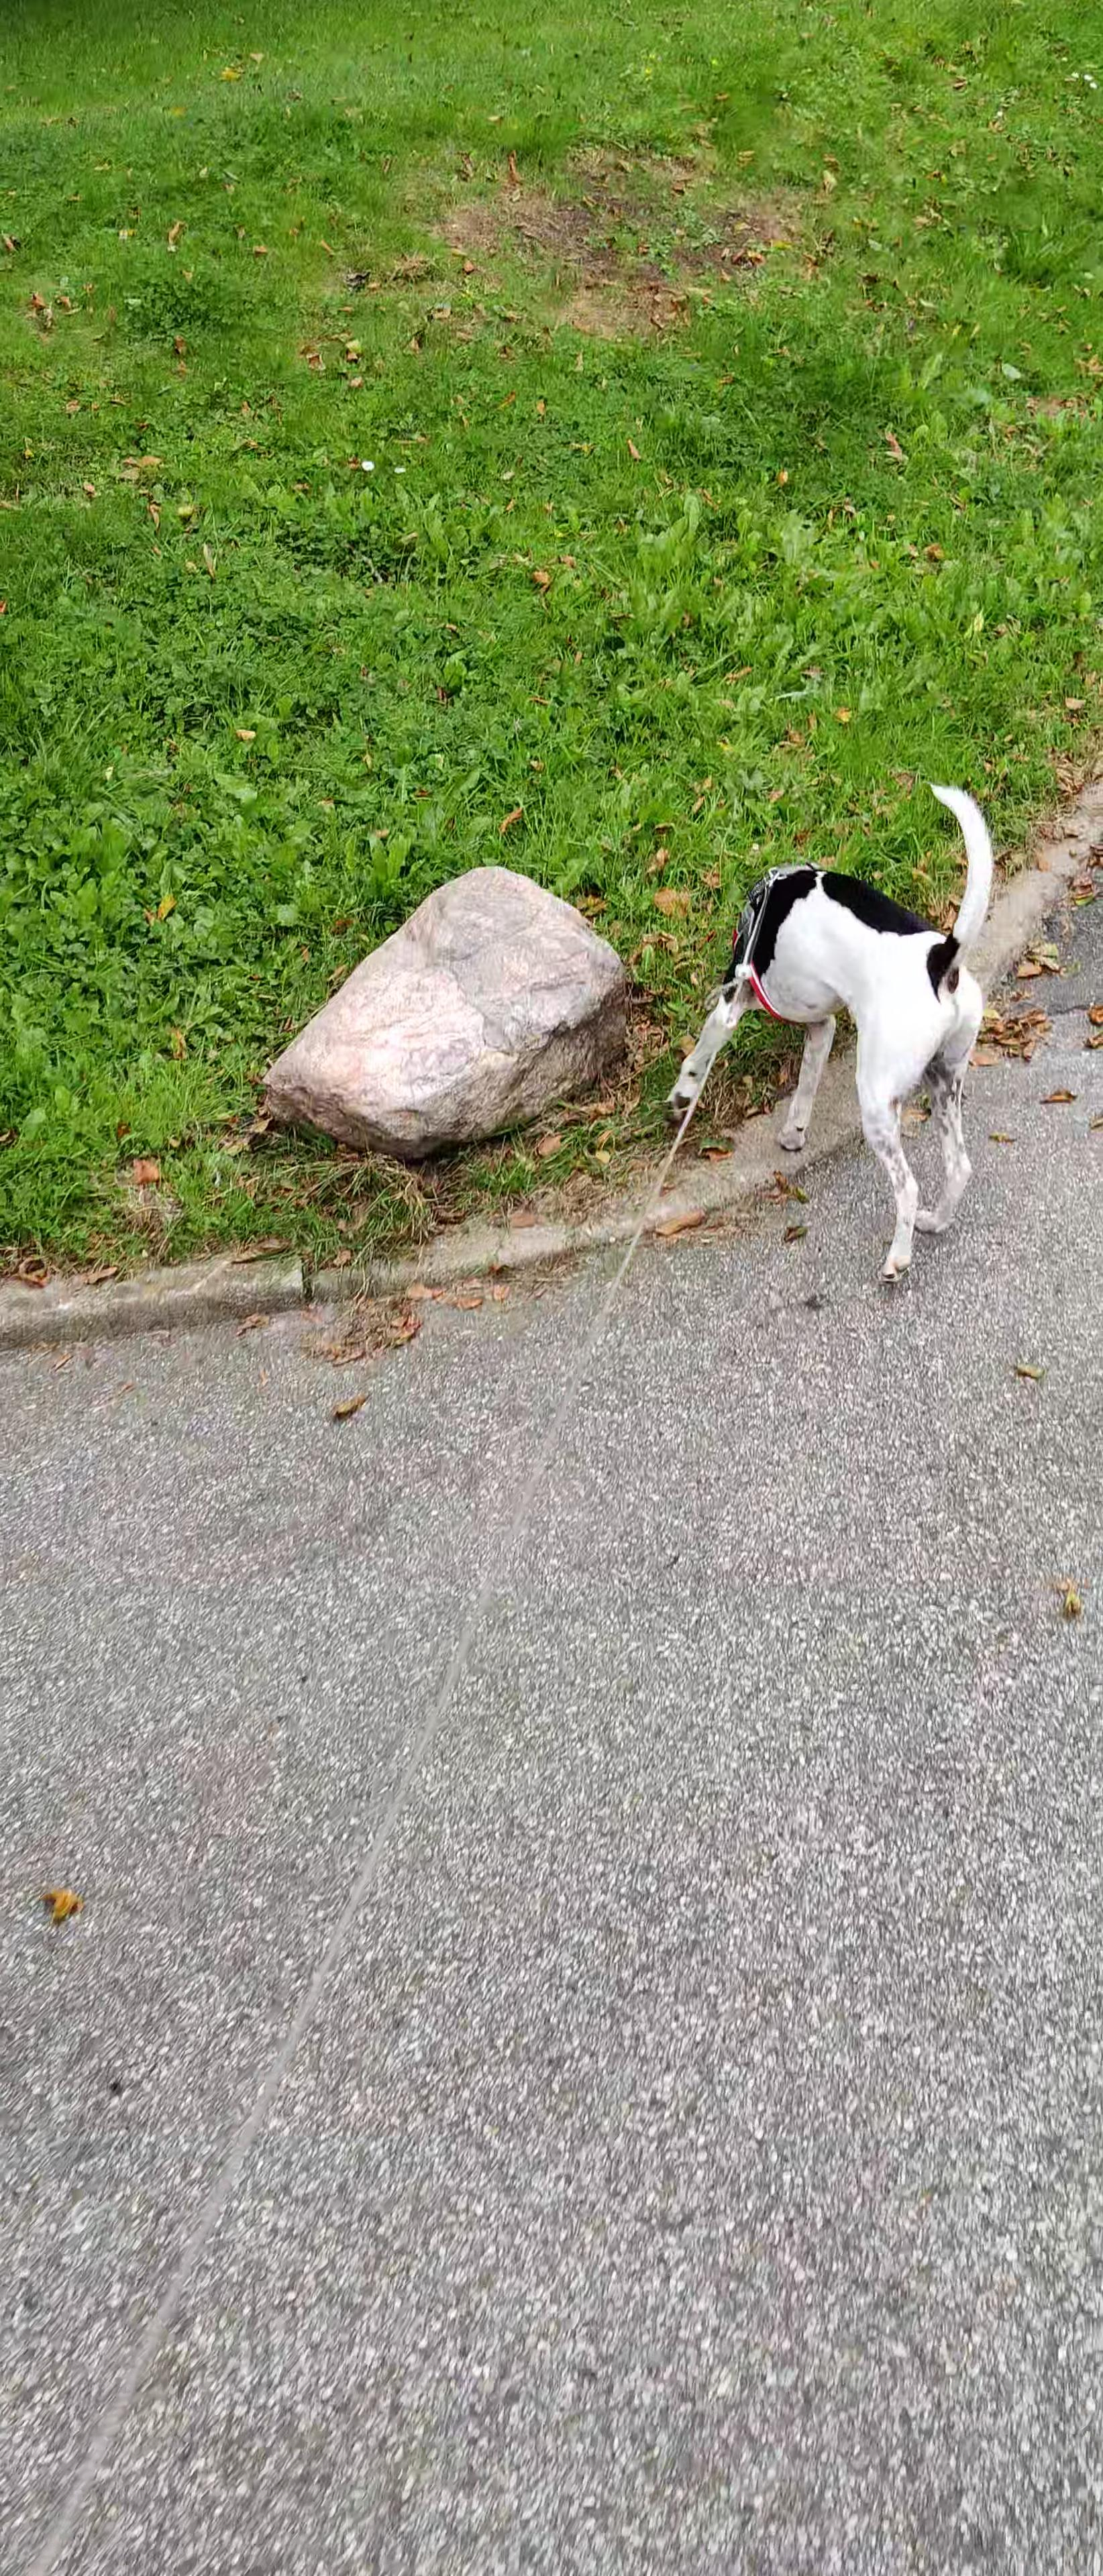Dog: (658, 775, 1003, 1293)
